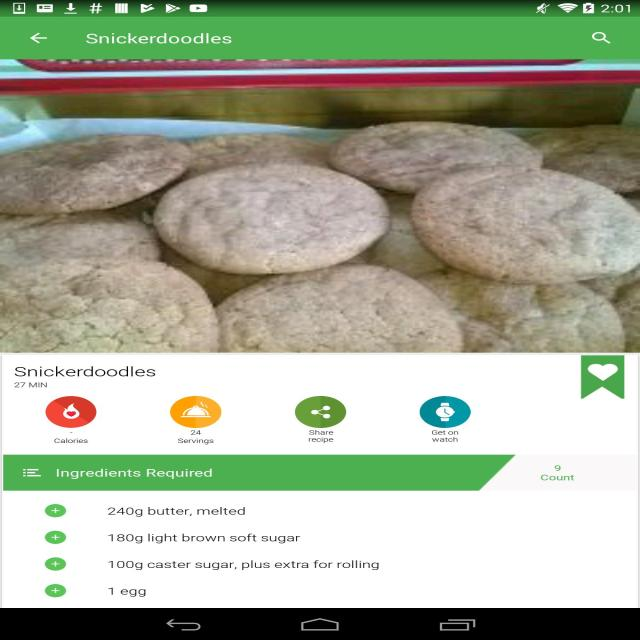button: (1, 56, 640, 354), (582, 354, 623, 401), (584, 28, 617, 47), (26, 30, 54, 46)
heading: (86, 32, 234, 48), (13, 364, 157, 380)
image: (416, 395, 474, 429), (46, 393, 99, 428), (168, 396, 223, 427), (294, 397, 346, 427)
text: (105, 556, 382, 575), (22, 464, 218, 482), (106, 532, 304, 545), (104, 505, 251, 518), (538, 462, 577, 484), (300, 427, 343, 445), (103, 586, 158, 600), (174, 428, 216, 446), (53, 428, 93, 446), (427, 430, 464, 444), (14, 380, 51, 389)
